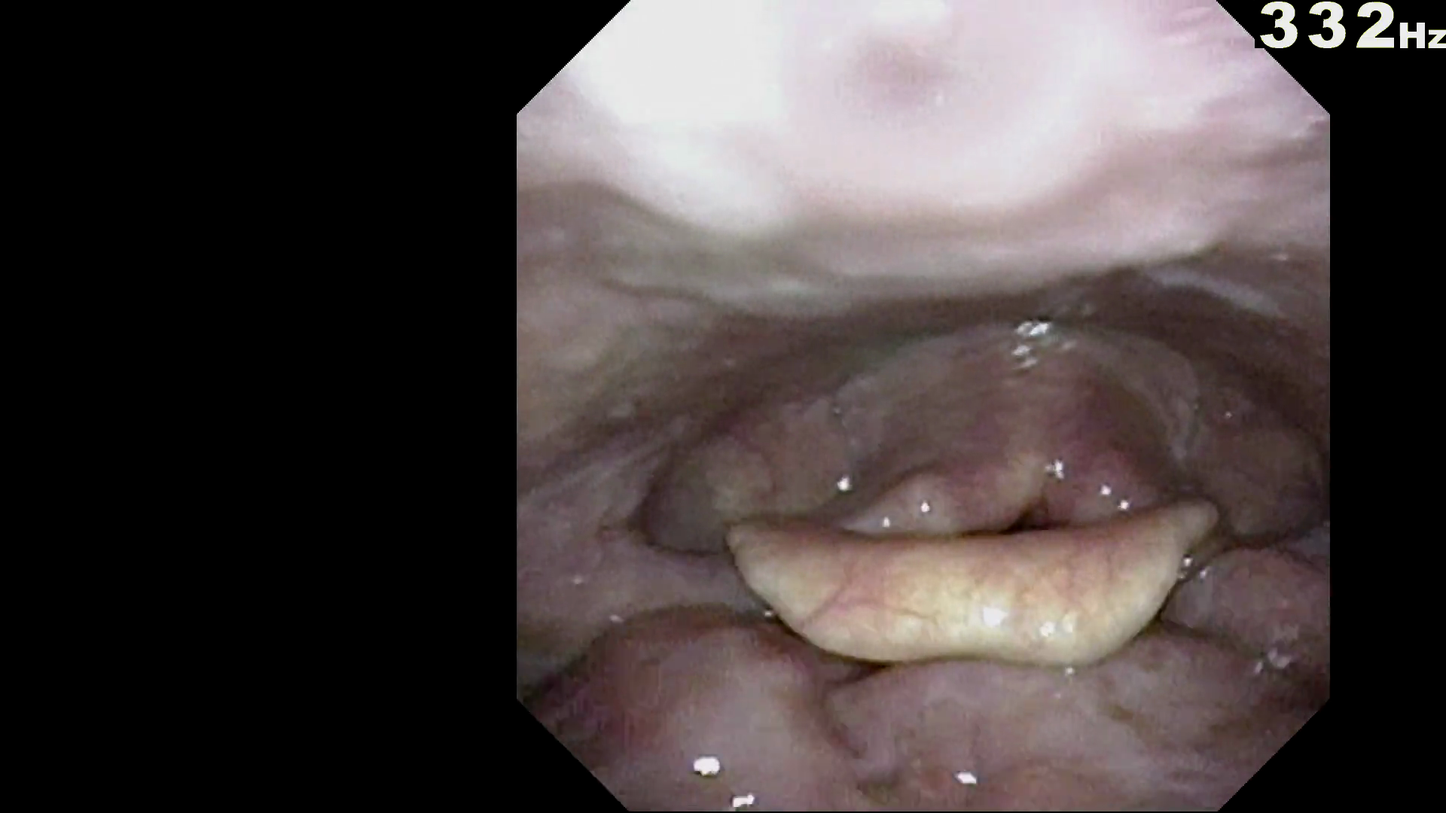epiglottis: (714, 525, 1256, 669)
trachea: (970, 481, 1088, 573)
